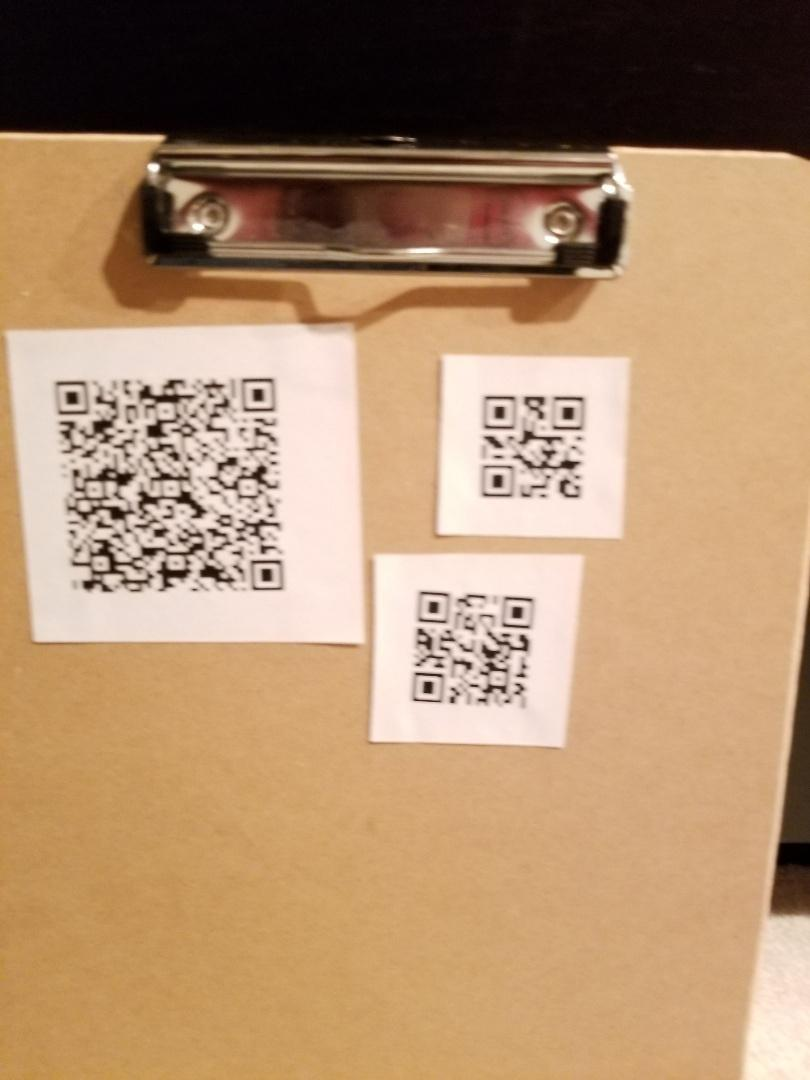Finder pattern: (477, 390, 520, 434), (405, 664, 447, 708), (236, 373, 280, 415), (546, 393, 590, 434), (49, 374, 93, 415), (474, 462, 518, 502), (244, 555, 287, 594), (411, 587, 453, 625), (498, 592, 536, 630)
